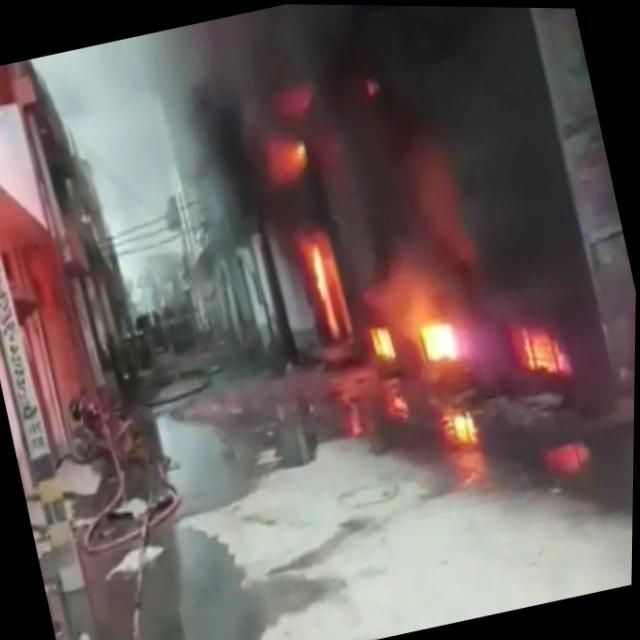fire: (301, 233, 345, 339), (511, 306, 571, 383), (411, 308, 467, 375), (360, 316, 401, 372), (272, 131, 312, 176)
